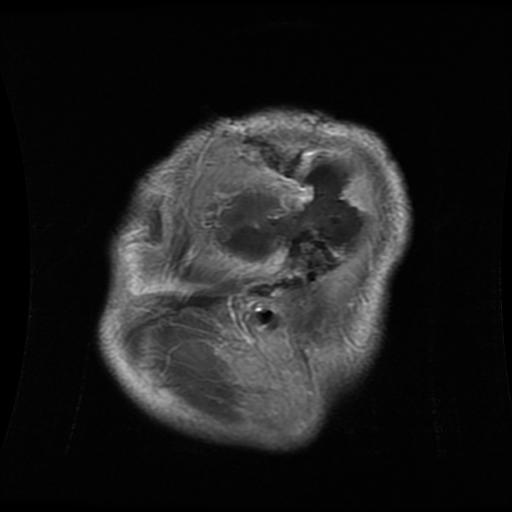Gliomia_tumour: (213, 165, 362, 271)
